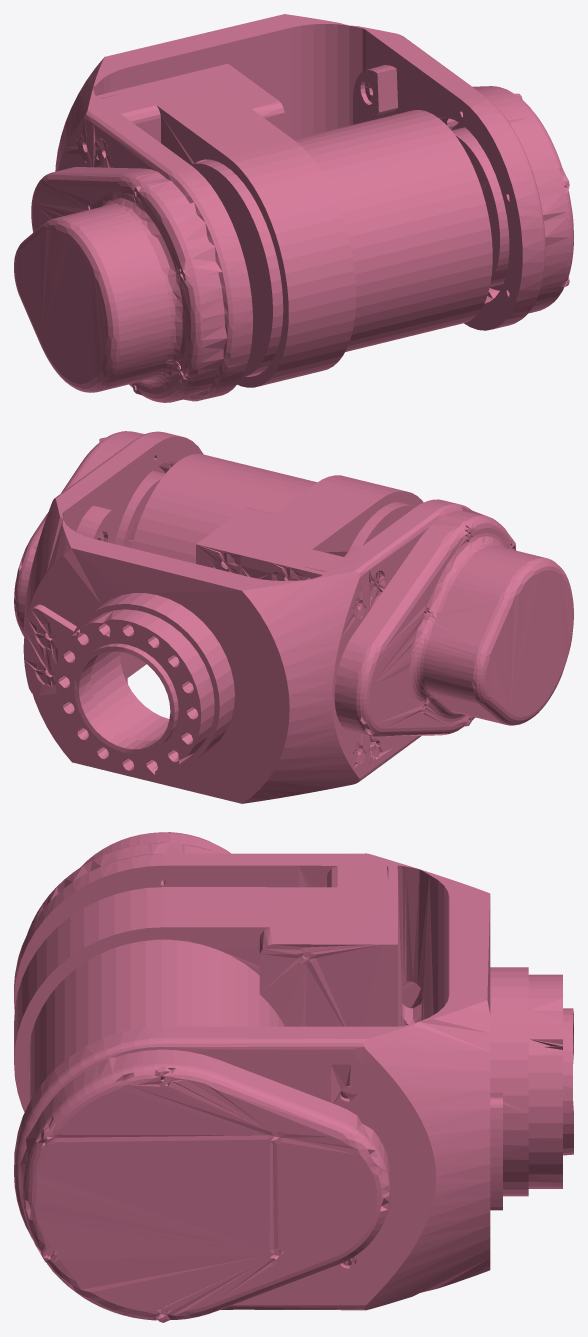
File: A2R3_RT1_shoulderRoll.dae
The picture shows the model from 3 angles, top to bottom: view 1: azimuth 30°, elevation 25°; view 2: azimuth 150°, elevation 25°; view 3: azimuth 270°, elevation 25°; orthographic projection. The views are drawn at different scales.
Parts seen in each view (by area): view 1: A2R3_RT1_shoulderRoll; view 2: A2R3_RT1_shoulderRoll; view 3: A2R3_RT1_shoulderRoll.
Part boxes in pixels (x1,y1,x2,y2): A2R3_RT1_shoulderRoll: (14, 14, 573, 402); A2R3_RT1_shoulderRoll: (14, 431, 573, 803); A2R3_RT1_shoulderRoll: (14, 832, 573, 1322).
Bounding box in the file's own units: 0.1495 × 0.1307 × 0.0699.
